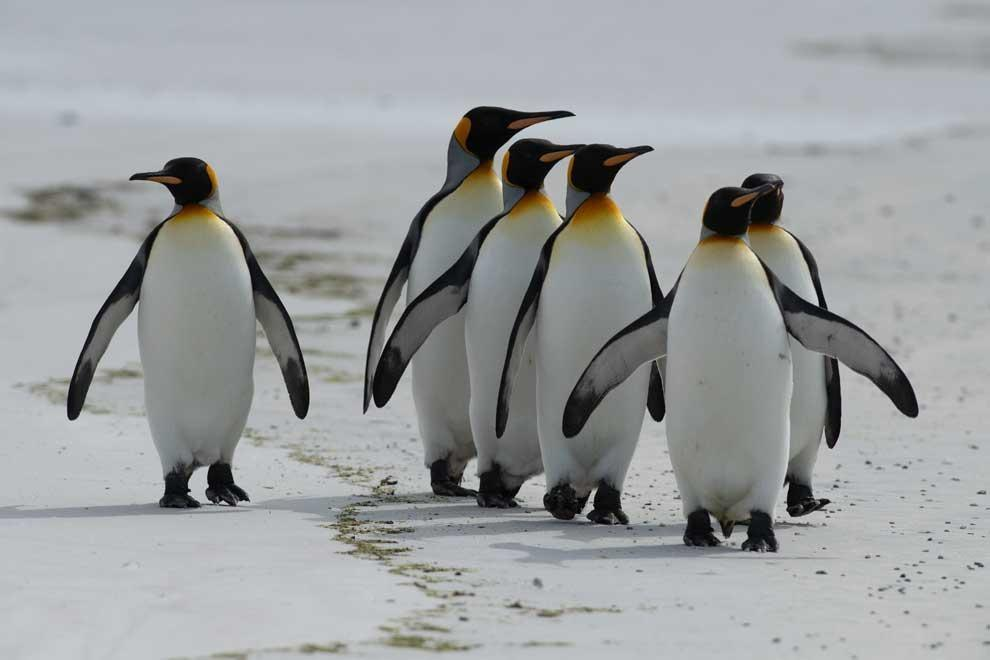Penguin: (562, 179, 917, 550), (68, 157, 309, 508), (364, 106, 571, 495), (373, 139, 577, 507), (497, 143, 665, 523), (742, 171, 841, 516)
